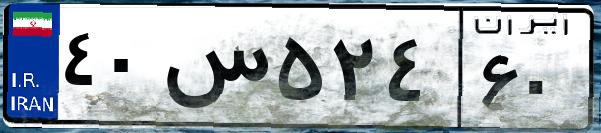0: (525, 38, 570, 115), (110, 28, 158, 98)
2: (330, 28, 385, 110)
4: (385, 28, 445, 110), (57, 26, 110, 100)
5: (270, 28, 330, 110)
6: (475, 38, 525, 113)
س: (158, 20, 270, 120)
